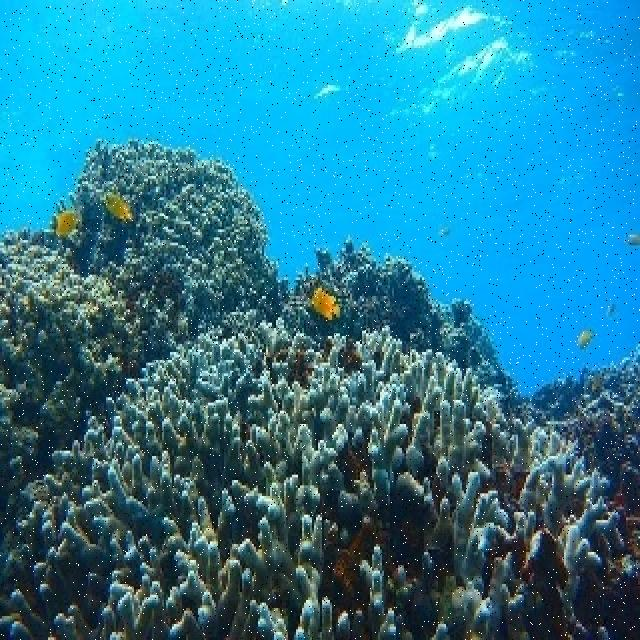fish: (306, 282, 341, 322), (106, 190, 132, 222), (55, 209, 79, 240)
reefs: (1, 141, 639, 638), (0, 317, 621, 640)
